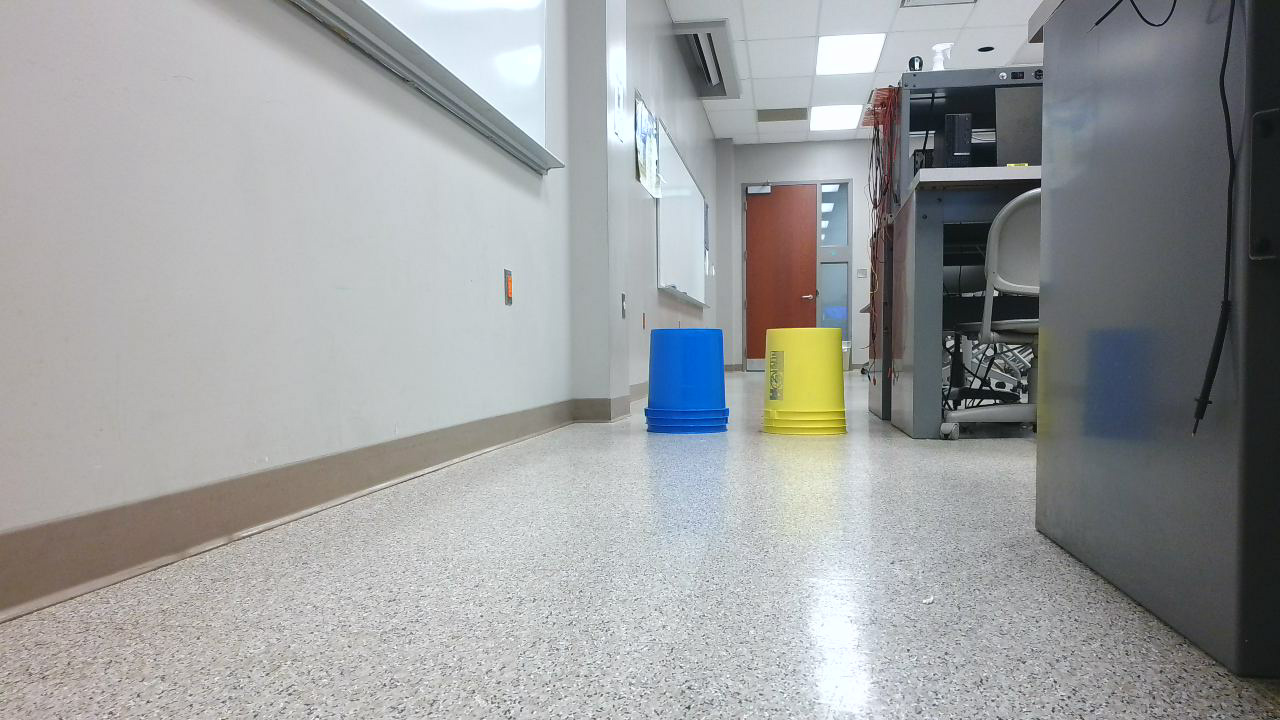blue_bucket: (646, 330, 740, 444)
yellow_bucket: (761, 328, 860, 447)
